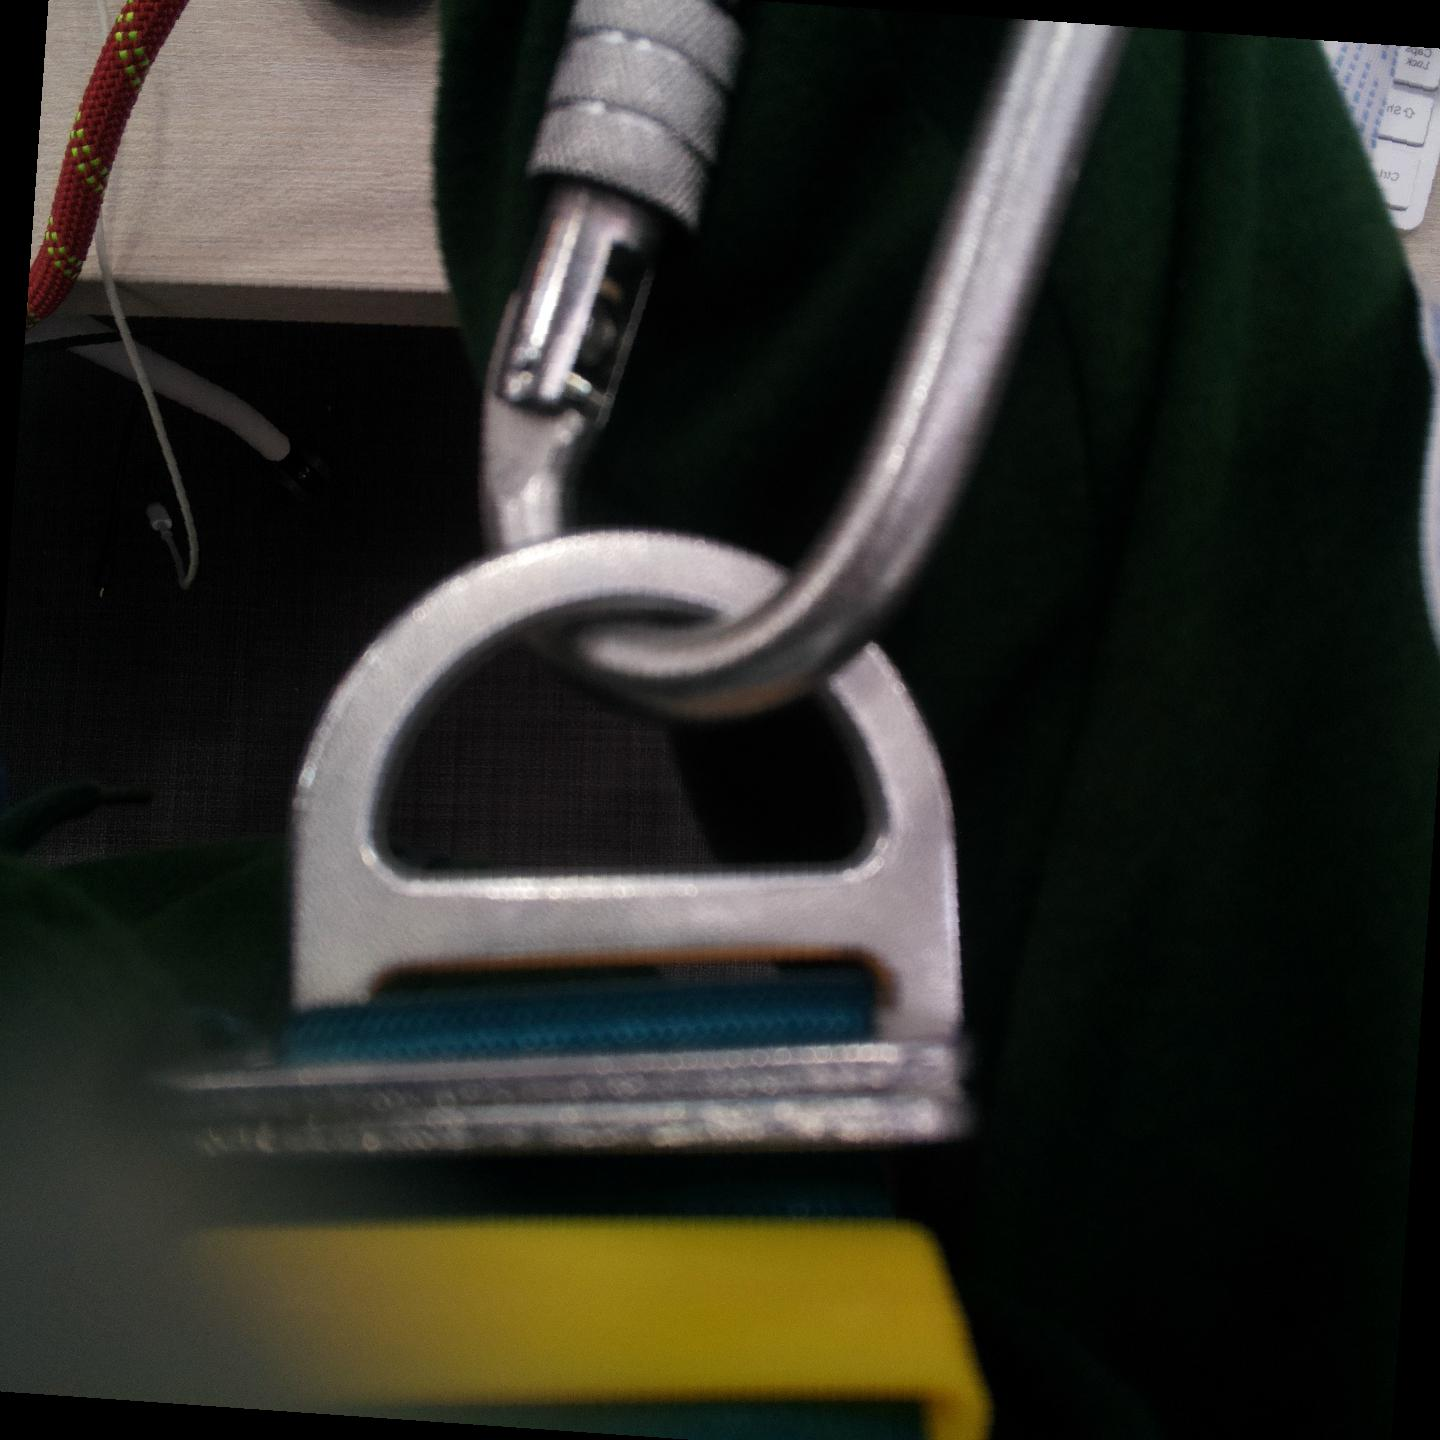SUCCESS: (459, 18, 1127, 537)
